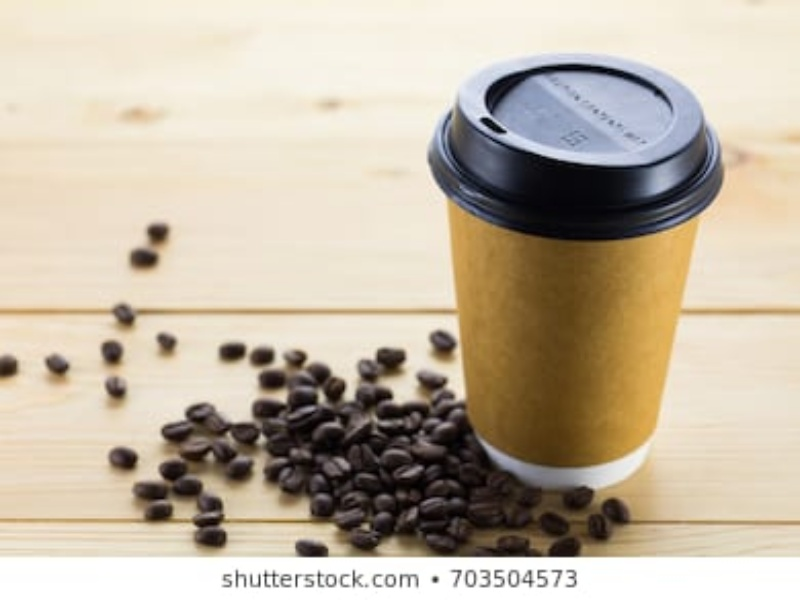coffee-lid: (425, 49, 729, 245)
plastic-cup: (423, 52, 721, 493)
